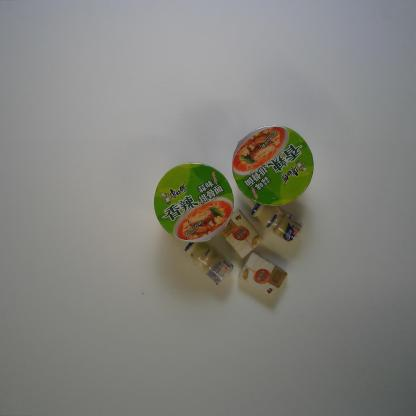Instant Noodles: (231, 124, 315, 207), (153, 161, 236, 243)
Milk: (182, 242, 234, 286), (250, 202, 304, 244)
Tissue: (236, 250, 289, 300), (219, 206, 266, 260)
